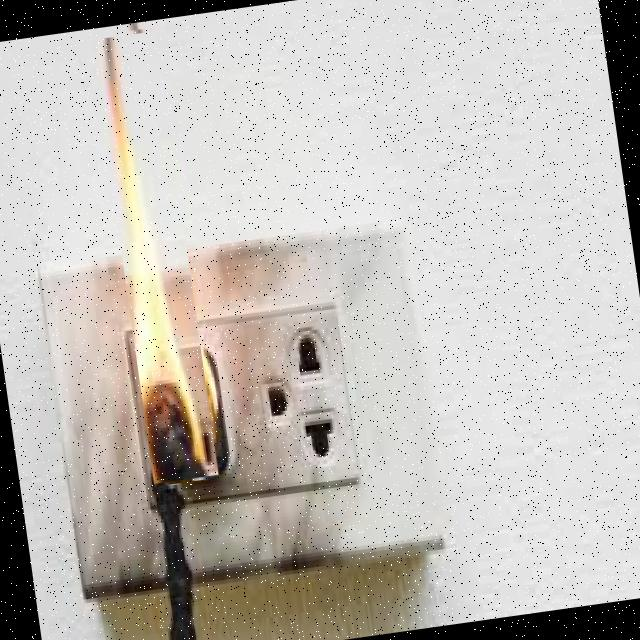fire: (92, 31, 219, 487)
